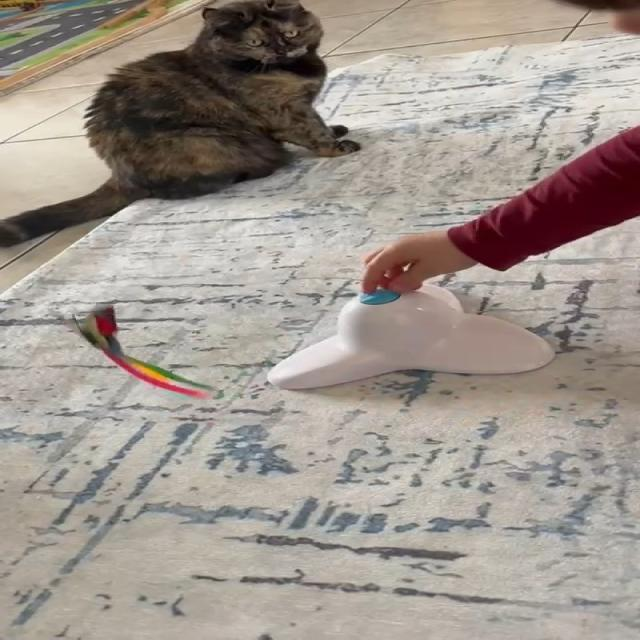authorized: (0, 0, 361, 248)
